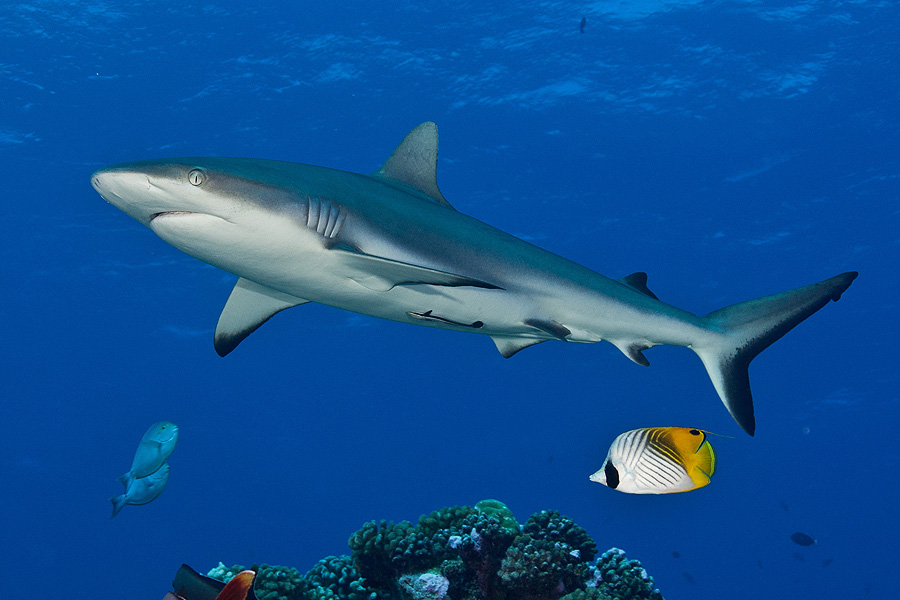Carcharhinus_amblyrhynchos: (69, 117, 873, 425)
